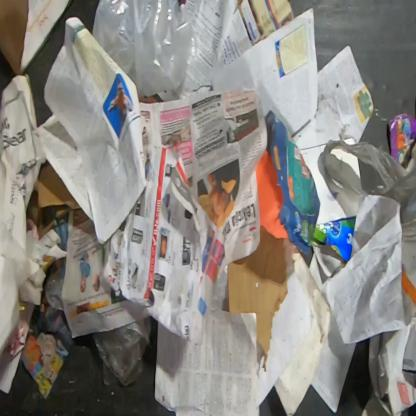cardboard: (228, 225, 288, 356), (34, 164, 80, 211)
soft_plastic: (91, 0, 198, 100), (323, 139, 415, 216), (92, 316, 153, 388), (314, 216, 356, 262), (44, 258, 66, 310)
